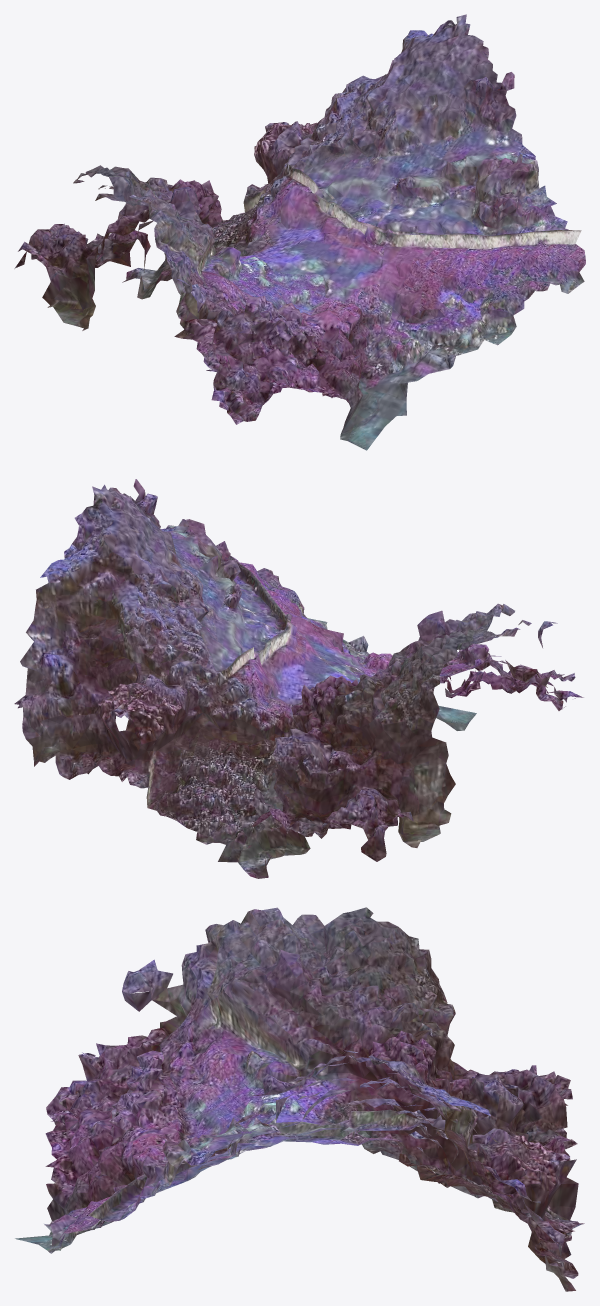
Rendered from Tile_+011_+019_L19_000021.glb.
3 views of the same model, one above another, from view 1: azimuth 30°, elevation 25°; view 2: azimuth 150°, elevation 25°; view 3: azimuth 270°, elevation 25° (orthographic). The views are drawn at different scales.
Visible parts, largest first — view 1: rtc; view 2: rtc; view 3: rtc.
Part boxes in pixels (x1,y1,x2,y2): rtc: (14, 14, 585, 450); rtc: (14, 479, 583, 878); rtc: (15, 907, 584, 1291).
Size of the model in its own units: 53.72 by 36.66 by 56.63.
1 material, 1 textured.
